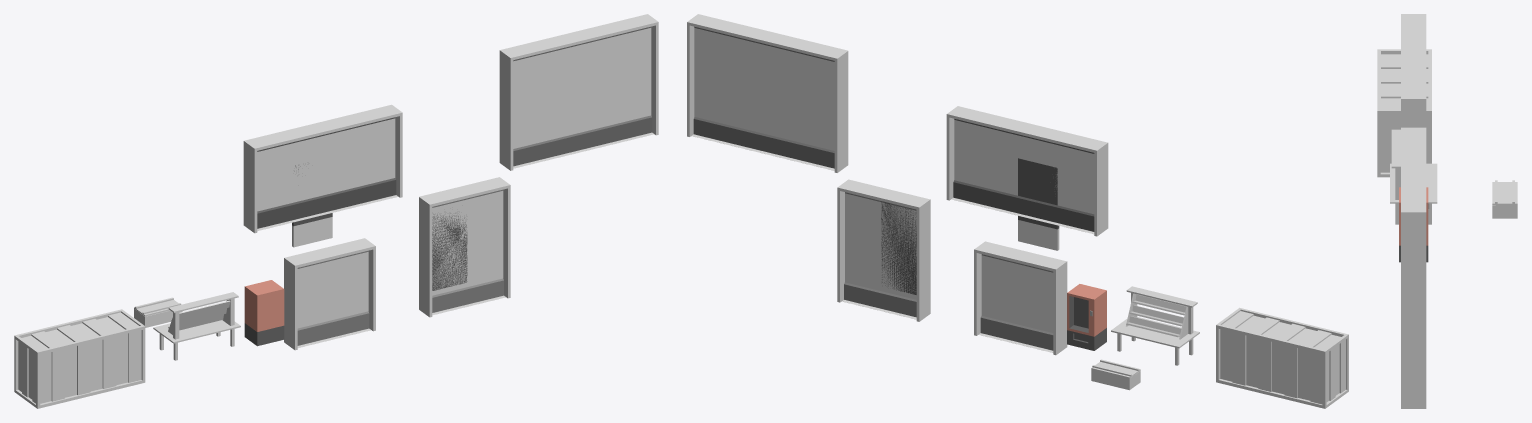
3 renders of one model, left to right at view 1: azimuth 30°, elevation 25°; view 2: azimuth 150°, elevation 25°; view 3: azimuth 270°, elevation 25°, orthographic. The views are drawn at different scales.
Parts seen in each view (by area): view 1: Cube.010, Cube.009, Cube.003, Cube.013, Cube.011, Cube.008, Cube.007, Cube.006, Cube.005, Cube, Cube.014, Cube.004 (+1 smaller); view 2: Cube.010, Cube.003, Cube.009, Cube.013, Cube.011, Cube.008, Cube.007, Cube.006, Cube, Cube.005, Cube.014, Cube.012 (+2 smaller); view 3: Cube.008, Cube.003, Cube.007, Cube.006, Cube, Cube.001, Cube.004, Cube.002.
Part boxes in pixels (box(x1,y1,x2,y2)): Cube.010: box(513, 26, 652, 166); Cube.009: box(257, 117, 396, 228); Cube.003: box(14, 309, 145, 408); Cube.013: box(432, 189, 503, 312); Cube.011: box(297, 250, 369, 345); Cube.008: box(499, 14, 658, 170); Cube.007: box(243, 104, 402, 233); Cube.006: box(419, 177, 510, 317); Cube.005: box(284, 238, 375, 350); Cube: box(153, 292, 240, 360); Cube.014: box(432, 213, 467, 295); Cube.004: box(244, 280, 284, 346); Cube.010: box(693, 26, 834, 168); Cube.003: box(1216, 307, 1348, 408); Cube.009: box(953, 119, 1094, 231); Cube.013: box(844, 192, 916, 317); Cube.011: box(980, 254, 1053, 350); Cube.008: box(687, 14, 848, 172); Cube.007: box(946, 106, 1108, 236); Cube.006: box(837, 179, 930, 321); Cube: box(1111, 286, 1199, 365); Cube.005: box(974, 241, 1067, 355); Cube.014: box(881, 201, 916, 299); Cube.012: box(1018, 158, 1059, 250); Cube.008: box(1401, 127, 1426, 344); Cube.003: box(1377, 49, 1431, 177); Cube.007: box(1401, 14, 1426, 127); Cube.006: box(1401, 345, 1426, 408); Cube: box(1390, 129, 1437, 224); Cube.001: box(1492, 180, 1517, 205); Cube.004: box(1399, 187, 1429, 262); Cube.002: box(1492, 205, 1517, 218).
Bounding box in the file's own units: 4686 × 1702 × 770.
